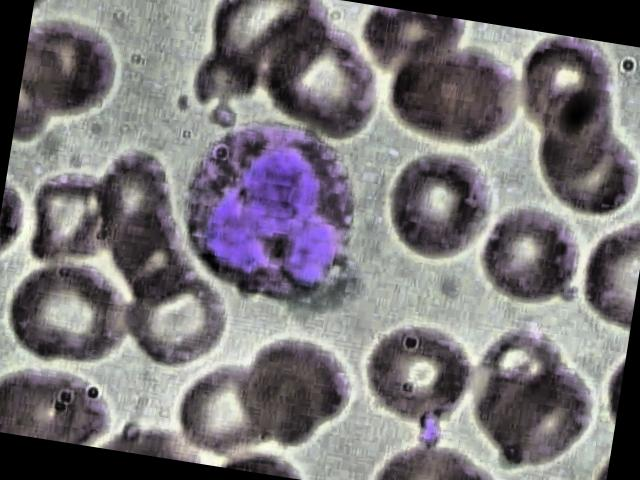RBC: (377, 30, 527, 153), (236, 20, 386, 143), (0, 249, 134, 374), (166, 341, 290, 466), (466, 193, 589, 318), (361, 310, 484, 435), (235, 322, 358, 447), (378, 146, 500, 272), (112, 252, 235, 376), (471, 356, 594, 480), (506, 30, 628, 150), (18, 11, 124, 125), (0, 355, 114, 448)
WBC: (164, 108, 373, 317)
